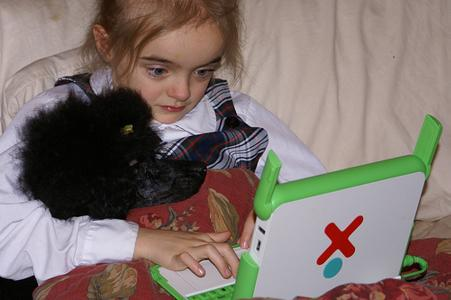person: (1, 1, 331, 283)
